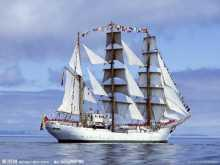fanchuan: (40, 21, 192, 144)
